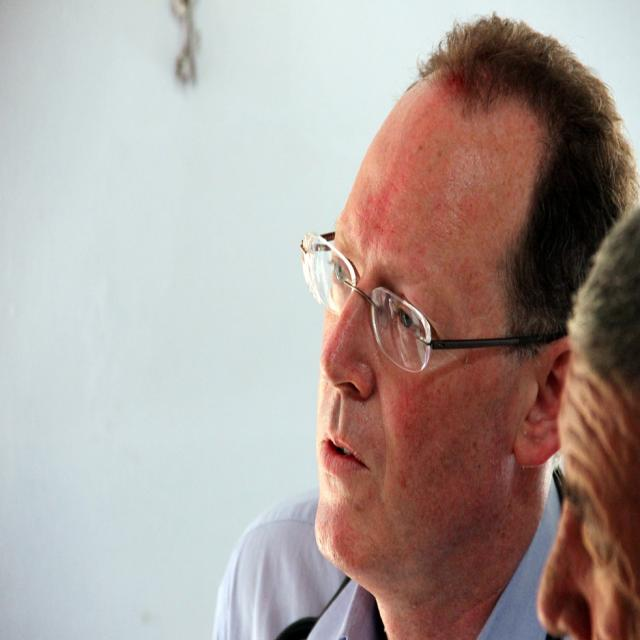Glasses: (301, 258, 568, 396)
